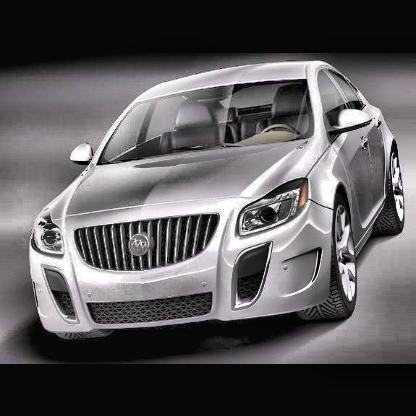Buick Regal GS 2012: (28, 59, 408, 344)
